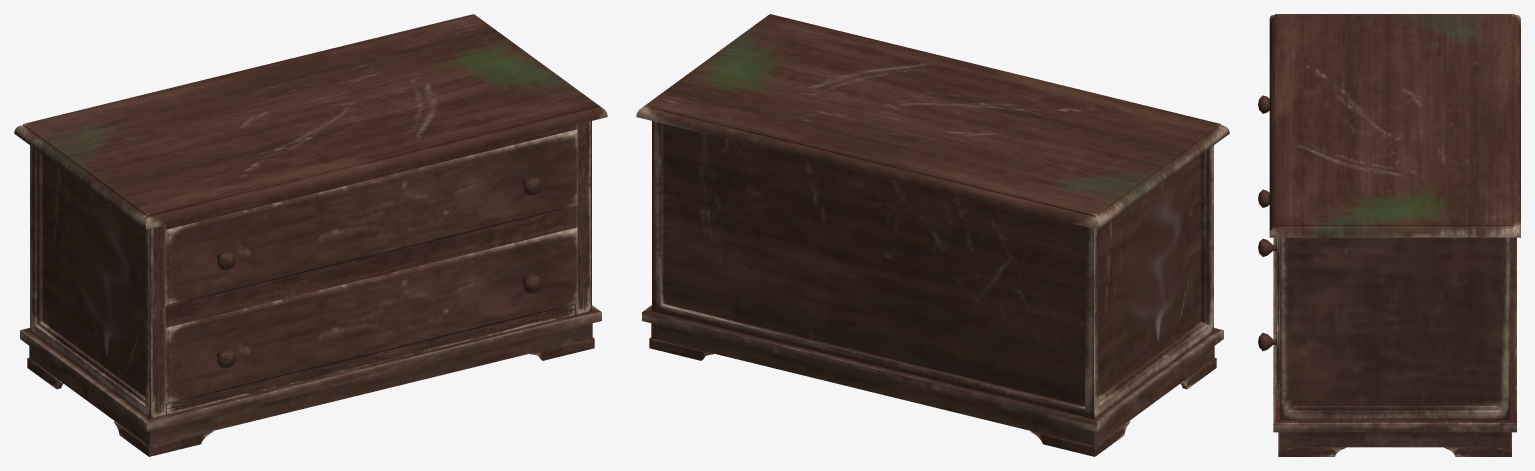
File: ChestOfDrawersActSmall.fbx
3 renders of one model, left to right at view 1: azimuth 30°, elevation 25°; view 2: azimuth 150°, elevation 25°; view 3: azimuth 270°, elevation 25°, orthographic. The views are drawn at different scales.
Parts seen in each view (by area): view 1: Mueble base.002; view 2: Mueble base.002; view 3: Mueble base.002.
Boxes of the visible parts, x1,y1,x2,y2 form: Mueble base.002: [14, 14, 607, 456]; Mueble base.002: [636, 14, 1229, 456]; Mueble base.002: [1258, 14, 1520, 456].
Bounding box in the file's own units: 243 × 122 × 125.
1 material, 1 textured.
